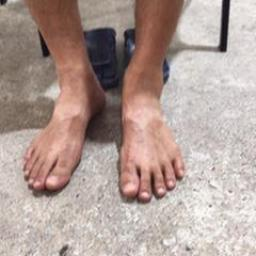Front View -Both Feet-: (15, 37, 189, 210)
